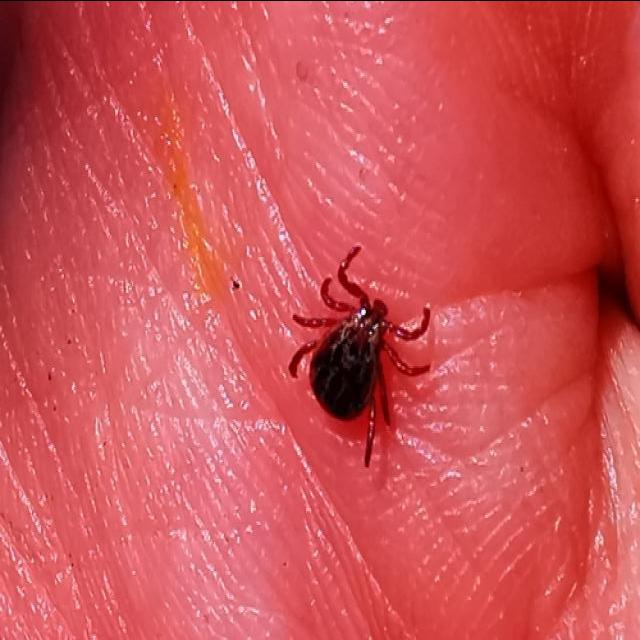Dermacentor Reticulatus-M: (289, 242, 431, 466)
